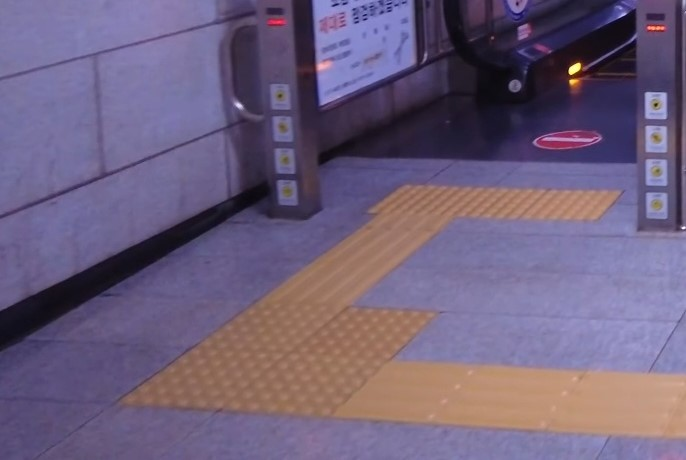guideBlock: (570, 370, 674, 435), (450, 366, 550, 427), (378, 358, 439, 428)
warningBlock: (270, 349, 351, 405), (181, 352, 260, 402), (331, 306, 393, 355), (247, 301, 313, 346), (462, 185, 529, 217), (535, 189, 608, 218), (401, 184, 461, 216)
